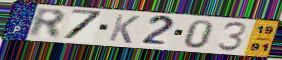0: (182, 19, 214, 49)
2: (138, 15, 178, 49)
3: (216, 21, 249, 52)
7: (64, 8, 105, 43)
K: (106, 13, 142, 45)
R: (27, 7, 67, 40)
